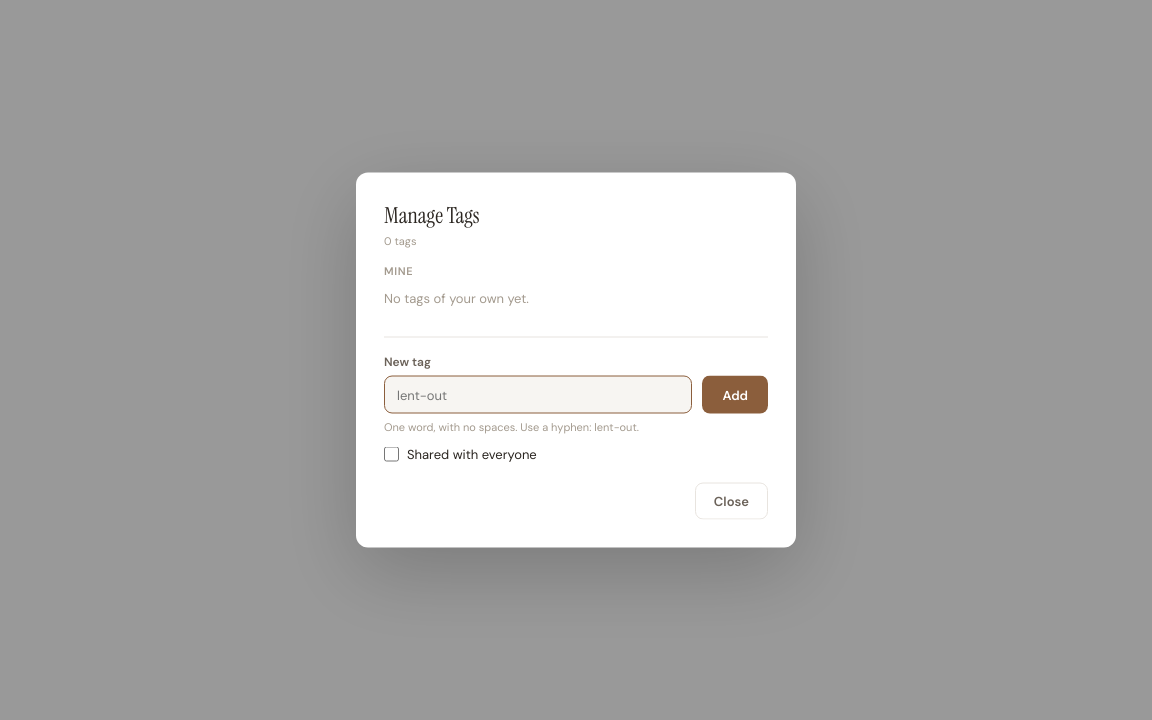
Scenario: TagManager › creates a shared tag when an admin ticks the box
Check: the heading "Mine" is shown, box [384,264,413,278]
Type "sci-fi" into the field labelled "New tag" at (538, 394), box [384,376,692,414]
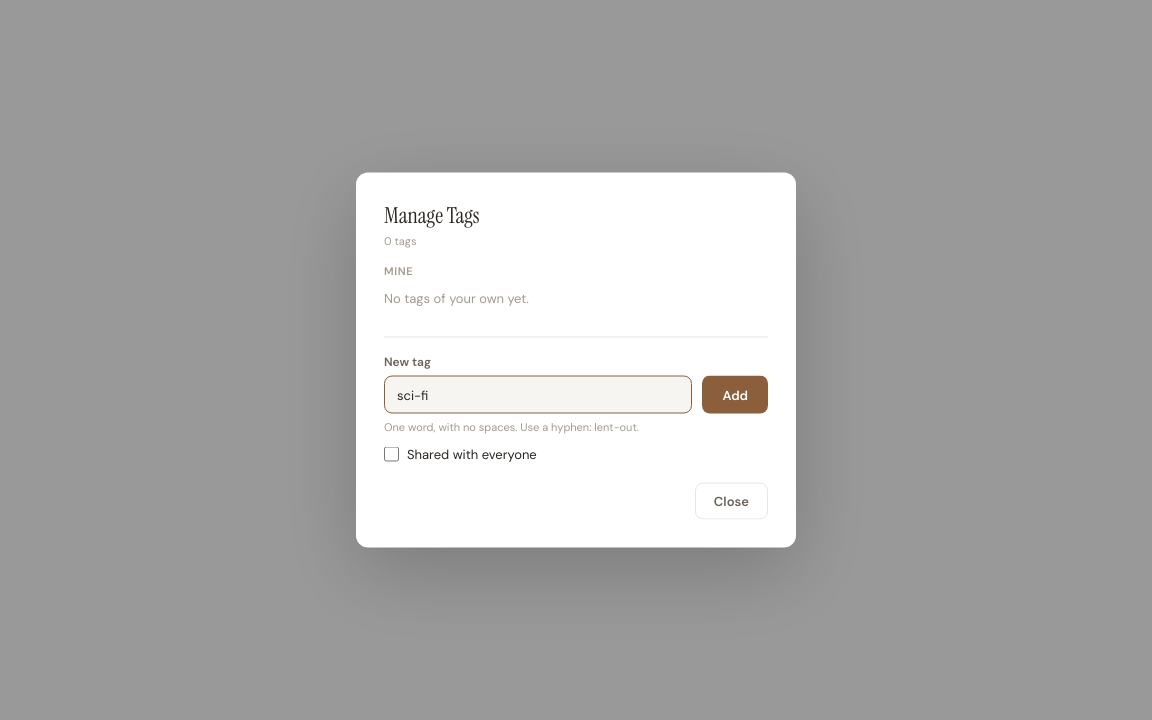
Click the checkbox labelled "Shared with everyone" at (392, 454), box [384,446,399,462]
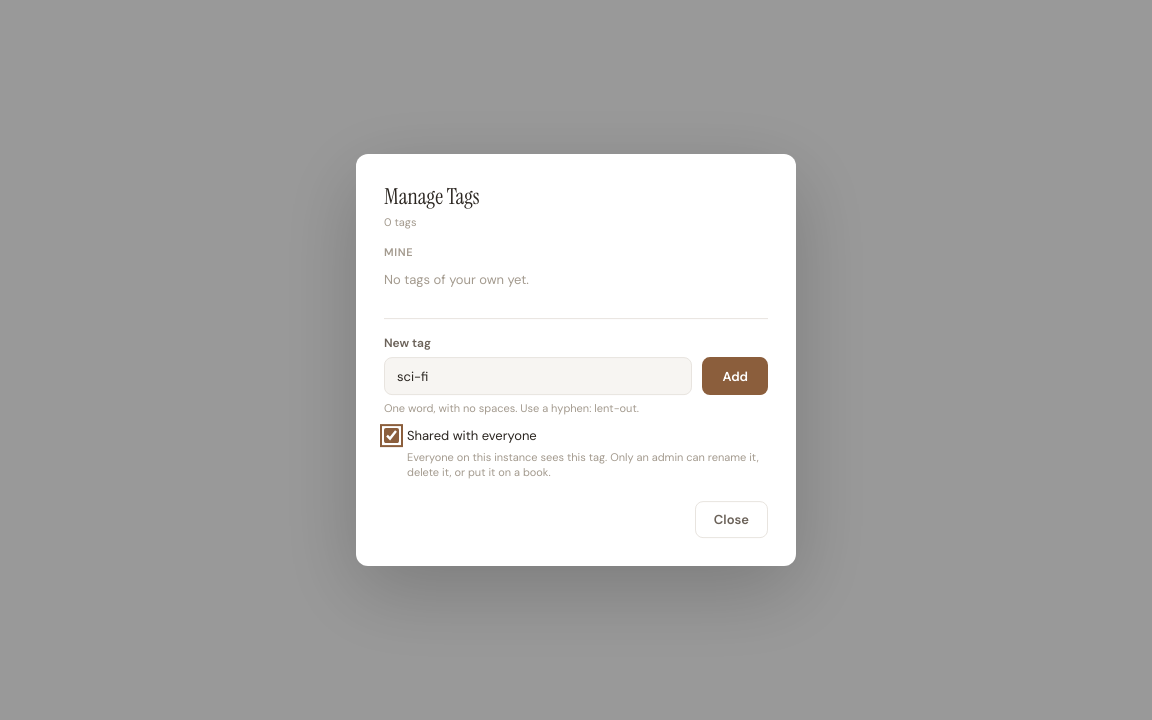
Click the button "Add" at (735, 376), box [702,357,768,395]
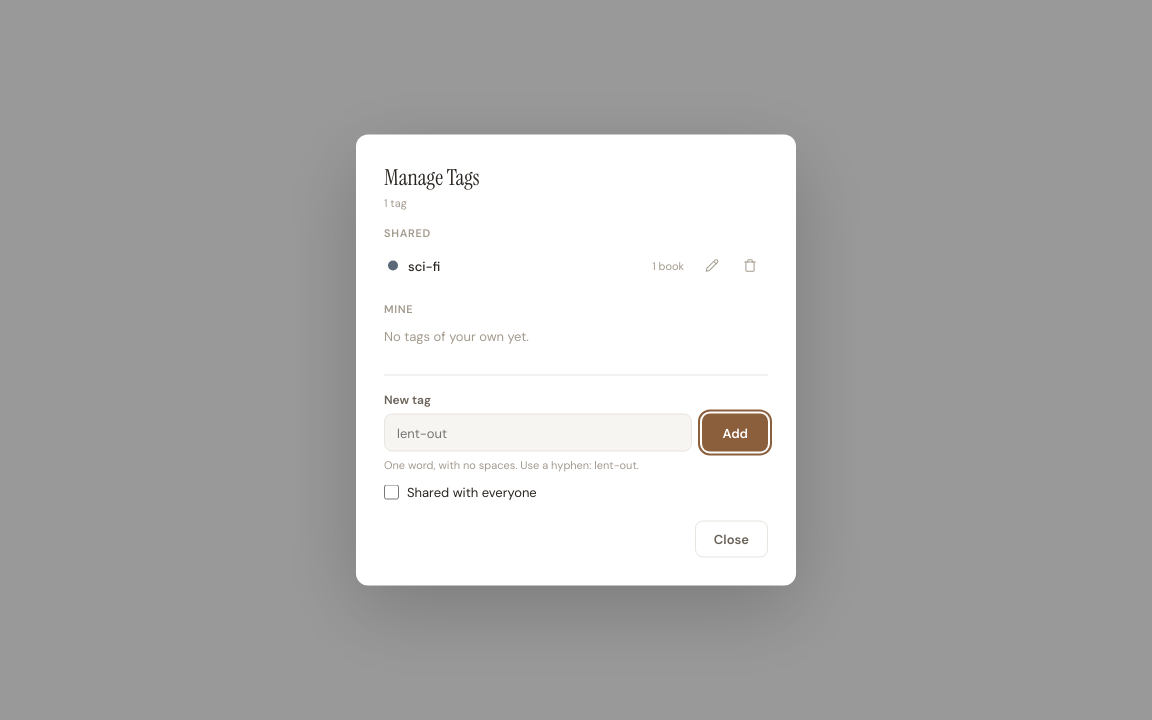
Check: the heading "Shared" is shown, box [384,226,431,240]
